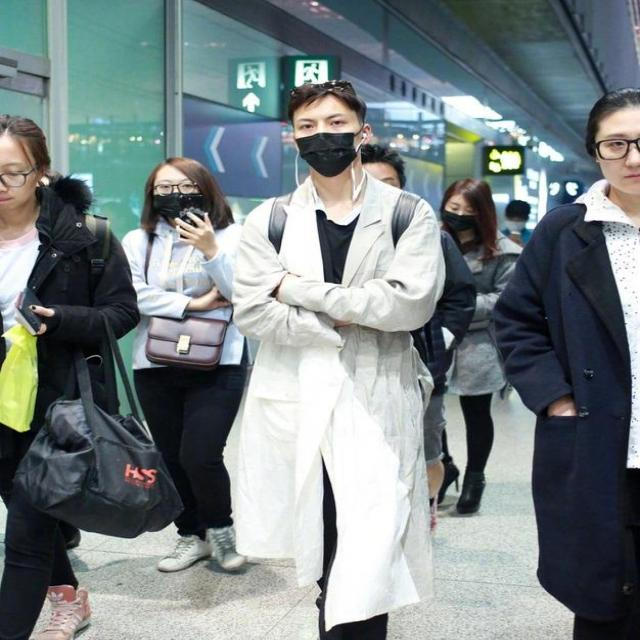mask: (294, 99, 356, 172), (154, 168, 200, 222), (444, 195, 478, 238)
nomask: (596, 109, 639, 193), (1, 141, 32, 213)
